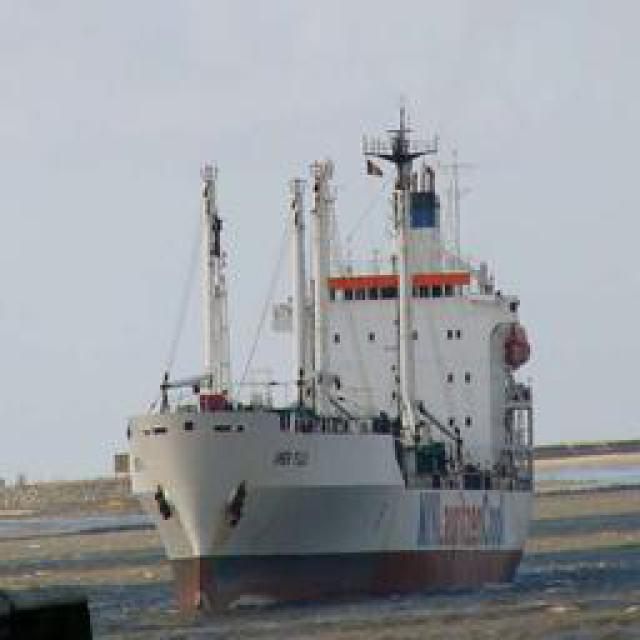Ship: (114, 70, 544, 600)
